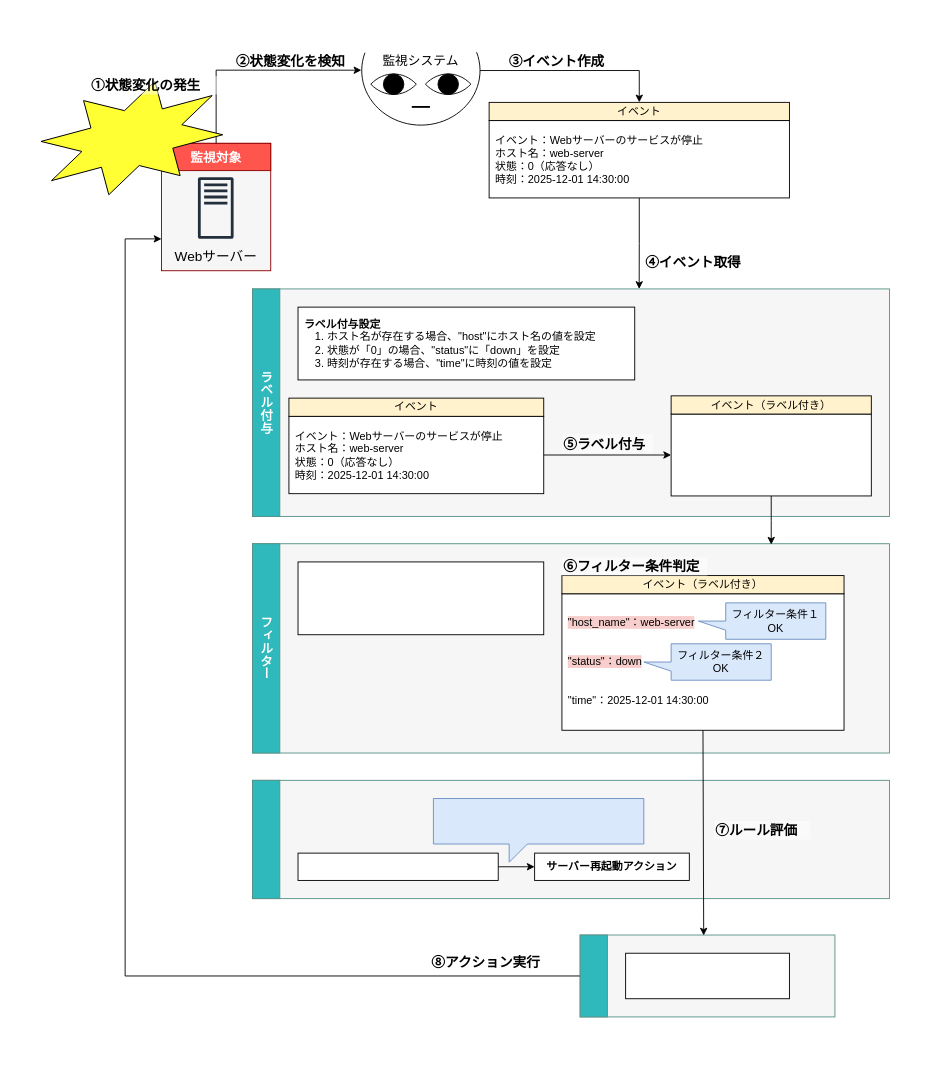
Image size: 941x1069. Some labels were removed from this diagram. The shapes that lost their labels are listed below. From the top down, each one's centre as x and y in pixels, then its label:
point (131, 137): Webサーバー のサービスが停止
point (770, 454): "host"：web-server "status"：down "time"：2025-12-01 14:30:00
point (420, 598): サーバー停止イベントフィルター設定 1. "host_name"の値が「web-server」 かつ 2. "status"の値が「down」
point (266, 839): ルール
point (538, 830): サーバー停止のイベントを サーバー再起動アクションに紐づける
point (397, 866): サーバー停止イベントフィルター設定
point (593, 975): アクション
point (707, 975): サーバー再起動アクション web-serverを再起動
